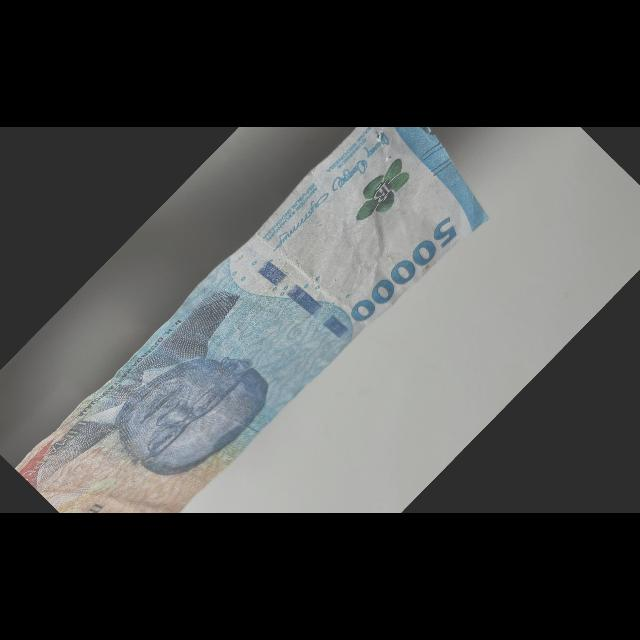Palsu-50k: (6, 100, 495, 574)
Tinta-Palsu-50k: (343, 153, 420, 233)
